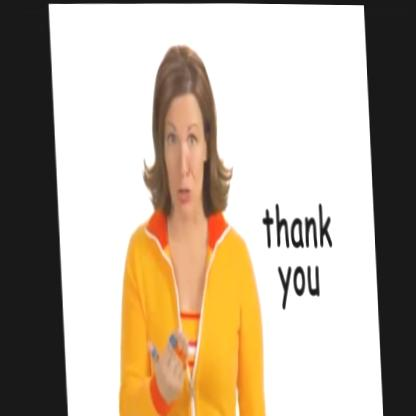ThankYou: (127, 33, 224, 413)
